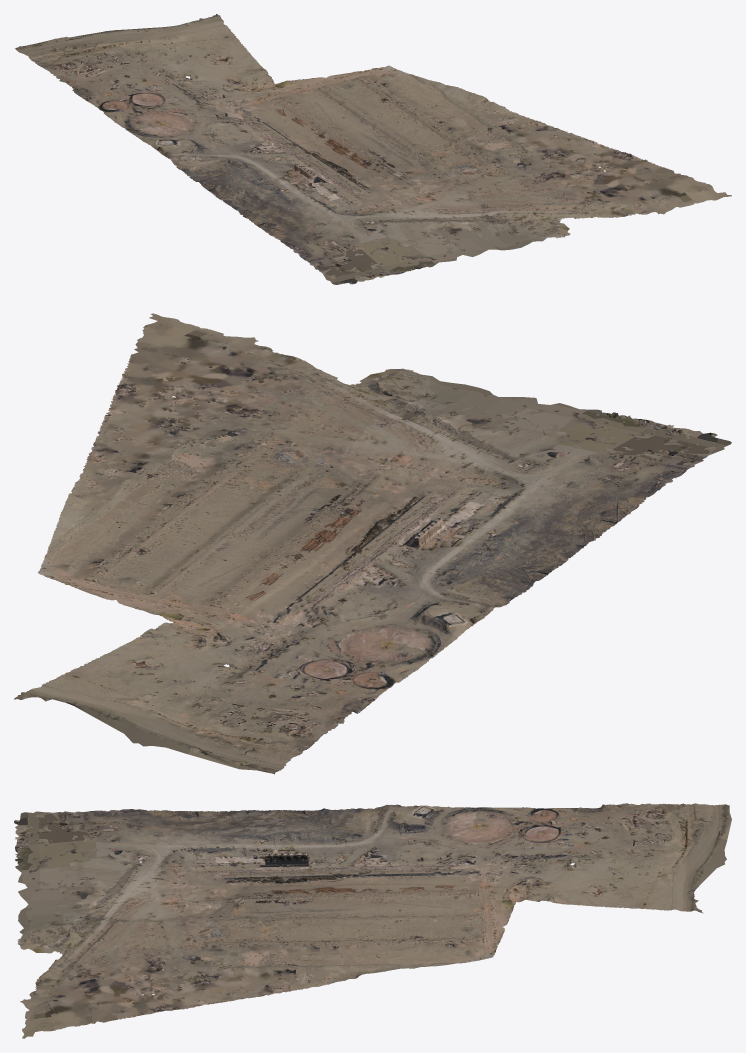
File: MOD_domainSurroundings_houseGround.fbx
3 renders of one model, top to bottom at view 1: azimuth 30°, elevation 25°; view 2: azimuth 150°, elevation 25°; view 3: azimuth 270°, elevation 25°, orthographic. The views are drawn at different scales.
Parts seen in each view (by area): view 1: MOD_domainSurroundings_houseGround; view 2: MOD_domainSurroundings_houseGround; view 3: MOD_domainSurroundings_houseGround.
Part boxes in pixels (<box>): MOD_domainSurroundings_houseGround: <box>15,14,731,284</box>; MOD_domainSurroundings_houseGround: <box>14,313,731,774</box>; MOD_domainSurroundings_houseGround: <box>14,803,731,1038</box>.
Bounding box in the file's own units: 53206 × 2132 × 73642.
Materials: 1 (1 with a texture image).
